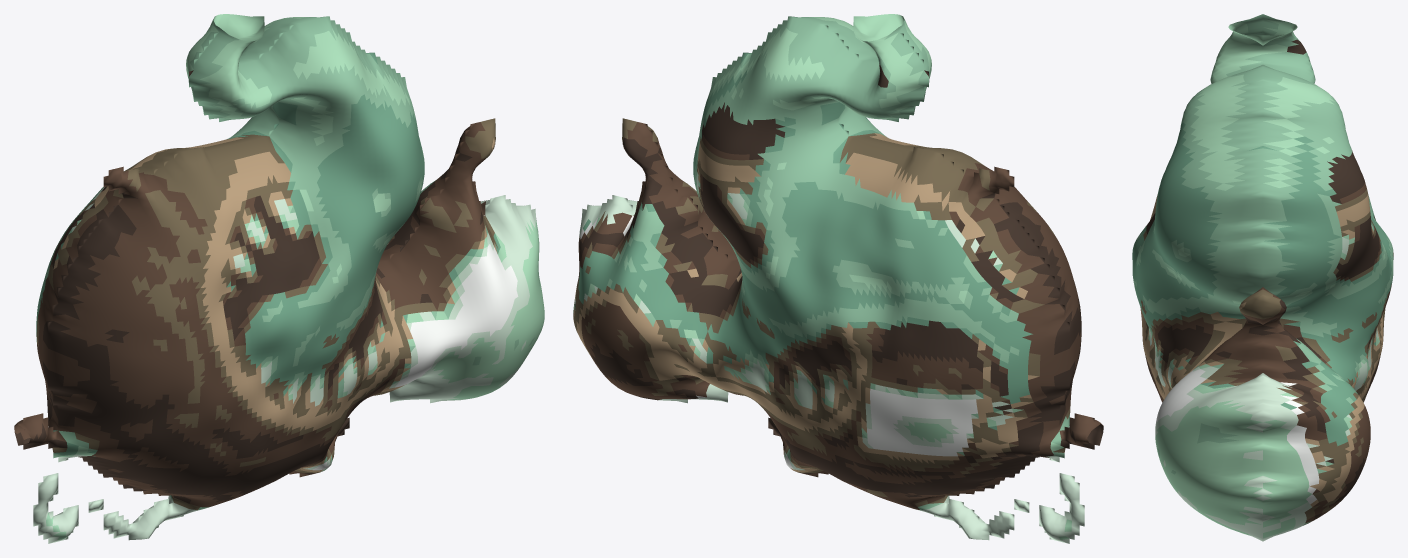
File: moktakgwi.glb
3 views of the same model, side by side, from view 1: azimuth 30°, elevation 25°; view 2: azimuth 150°, elevation 25°; view 3: azimuth 270°, elevation 25° (orthographic). The views are drawn at different scales.
Parts seen in each view (by area): view 1: moktakgwi; view 2: moktakgwi; view 3: moktakgwi.
Boxes of the visible parts, <box> form: moktakgwi: <box>14,14,544,543</box>; moktakgwi: <box>573,14,1103,543</box>; moktakgwi: <box>1132,14,1393,541</box>.
Bounding box in the file's own units: 587 × 527 × 264.
